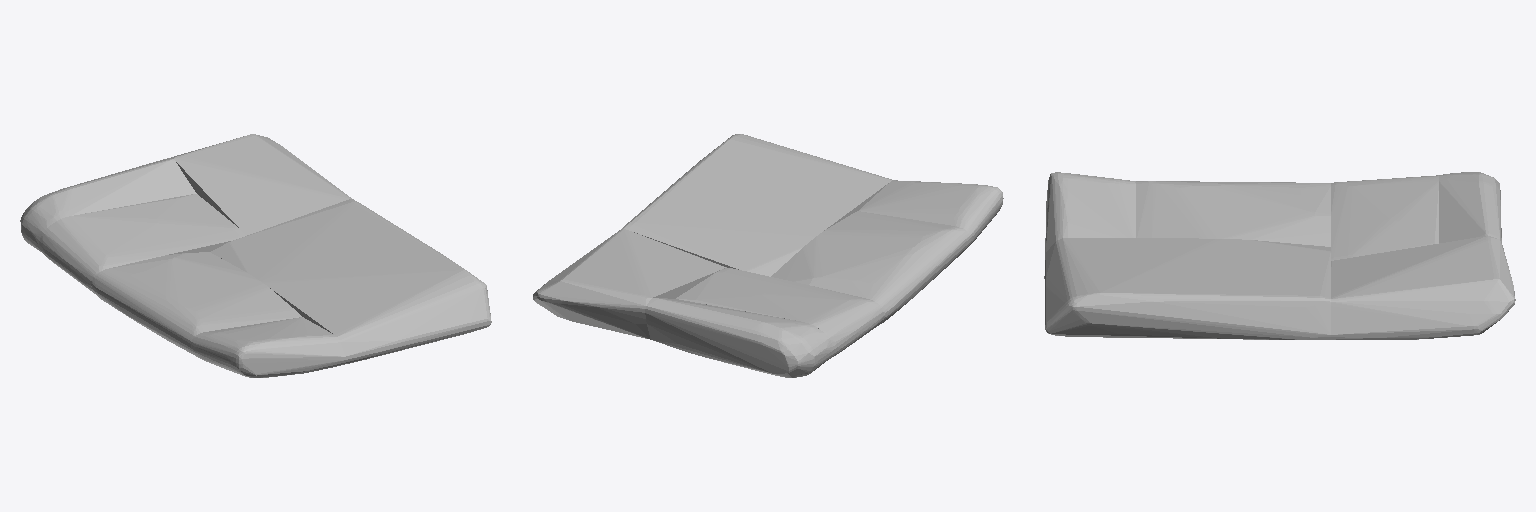
The robot description file, URDF, robot "root":
<robot name="root">
  <link name="link_coacd_convex_piece_0">
    <inertial>
      <origin xyz="0 0 0" rpy="0 0 0"/>
      <inertia ixx="8.14E-03" ixy="-4.73E-03" ixz="7.27E-05" iyy="3.73E-03" iyz="2.85E-05" izz="1.18E-02"/>
    </inertial>
    <visual>
      <origin xyz="0 0 0" rpy="0 0 0"/>
      <geometry>
        <mesh filename="coacd_convex_piece_0.obj" scale="1.0000E+00 1.0000E+00 1.0000E+00"/>
      </geometry>
      <material name="">
        <color rgba="7.50E-01 7.50E-01 7.50E-01 1"/>
      </material>
    </visual>
    <collision>
      <origin xyz="0 0 0" rpy="0 0 0"/>
      <geometry>
        <mesh filename="coacd_convex_piece_0.obj" scale="1.0000E+00 1.0000E+00 1.0000E+00"/>
      </geometry>
    </collision>
  </link>
  <link name="link_coacd_convex_piece_1">
    <inertial>
      <origin xyz="0 0 0" rpy="0 0 0"/>
      <inertia ixx="1.03E-02" ixy="4.82E-03" ixz="2.39E-04" iyy="6.04E-03" iyz="-4.37E-04" izz="1.62E-02"/>
    </inertial>
    <visual>
      <origin xyz="0 0 0" rpy="0 0 0"/>
      <geometry>
        <mesh filename="coacd_convex_piece_1.obj" scale="1.0000E+00 1.0000E+00 1.0000E+00"/>
      </geometry>
      <material name="">
        <color rgba="7.50E-01 7.50E-01 7.50E-01 1"/>
      </material>
    </visual>
    <collision>
      <origin xyz="0 0 0" rpy="0 0 0"/>
      <geometry>
        <mesh filename="coacd_convex_piece_1.obj" scale="1.0000E+00 1.0000E+00 1.0000E+00"/>
      </geometry>
    </collision>
  </link>
  <joint name="link_coacd_convex_piece_1_joint" type="fixed">
    <origin xyz="0 0 0" rpy="0 0 0"/>
    <parent link="link_coacd_convex_piece_0"/>
    <child link="link_coacd_convex_piece_1"/>
  </joint>
  <link name="link_coacd_convex_piece_2">
    <inertial>
      <origin xyz="0 0 0" rpy="0 0 0"/>
      <inertia ixx="5.02E-03" ixy="-2.36E-03" ixz="-7.54E-05" iyy="1.33E-03" iyz="-1.94E-04" izz="6.32E-03"/>
    </inertial>
    <visual>
      <origin xyz="0 0 0" rpy="0 0 0"/>
      <geometry>
        <mesh filename="coacd_convex_piece_2.obj" scale="1.0000E+00 1.0000E+00 1.0000E+00"/>
      </geometry>
      <material name="">
        <color rgba="7.50E-01 7.50E-01 7.50E-01 1"/>
      </material>
    </visual>
    <collision>
      <origin xyz="0 0 0" rpy="0 0 0"/>
      <geometry>
        <mesh filename="coacd_convex_piece_2.obj" scale="1.0000E+00 1.0000E+00 1.0000E+00"/>
      </geometry>
    </collision>
  </link>
  <joint name="link_coacd_convex_piece_2_joint" type="fixed">
    <origin xyz="0 0 0" rpy="0 0 0"/>
    <parent link="link_coacd_convex_piece_1"/>
    <child link="link_coacd_convex_piece_2"/>
  </joint>
  <link name="link_coacd_convex_piece_3">
    <inertial>
      <origin xyz="0 0 0" rpy="0 0 0"/>
      <inertia ixx="3.18E-03" ixy="2.02E-03" ixz="-1.66E-04" iyy="2.15E-03" iyz="2.23E-04" izz="5.26E-03"/>
    </inertial>
    <visual>
      <origin xyz="0 0 0" rpy="0 0 0"/>
      <geometry>
        <mesh filename="coacd_convex_piece_3.obj" scale="1.0000E+00 1.0000E+00 1.0000E+00"/>
      </geometry>
      <material name="">
        <color rgba="7.50E-01 7.50E-01 7.50E-01 1"/>
      </material>
    </visual>
    <collision>
      <origin xyz="0 0 0" rpy="0 0 0"/>
      <geometry>
        <mesh filename="coacd_convex_piece_3.obj" scale="1.0000E+00 1.0000E+00 1.0000E+00"/>
      </geometry>
    </collision>
  </link>
  <joint name="link_coacd_convex_piece_3_joint" type="fixed">
    <origin xyz="0 0 0" rpy="0 0 0"/>
    <parent link="link_coacd_convex_piece_2"/>
    <child link="link_coacd_convex_piece_3"/>
  </joint>
  <link name="link_coacd_convex_piece_4">
    <inertial>
      <origin xyz="0 0 0" rpy="0 0 0"/>
      <inertia ixx="1.67E-03" ixy="-1.37E-03" ixz="-3.20E-04" iyy="3.31E-03" iyz="-1.74E-04" izz="4.89E-03"/>
    </inertial>
    <visual>
      <origin xyz="0 0 0" rpy="0 0 0"/>
      <geometry>
        <mesh filename="coacd_convex_piece_4.obj" scale="1.0000E+00 1.0000E+00 1.0000E+00"/>
      </geometry>
      <material name="">
        <color rgba="7.50E-01 7.50E-01 7.50E-01 1"/>
      </material>
    </visual>
    <collision>
      <origin xyz="0 0 0" rpy="0 0 0"/>
      <geometry>
        <mesh filename="coacd_convex_piece_4.obj" scale="1.0000E+00 1.0000E+00 1.0000E+00"/>
      </geometry>
    </collision>
  </link>
  <joint name="link_coacd_convex_piece_4_joint" type="fixed">
    <origin xyz="0 0 0" rpy="0 0 0"/>
    <parent link="link_coacd_convex_piece_3"/>
    <child link="link_coacd_convex_piece_4"/>
  </joint>
  <link name="link_coacd_convex_piece_5">
    <inertial>
      <origin xyz="0 0 0" rpy="0 0 0"/>
      <inertia ixx="6.56E-03" ixy="2.41E-03" ixz="-3.88E-05" iyy="1.41E-03" iyz="6.03E-05" izz="7.93E-03"/>
    </inertial>
    <visual>
      <origin xyz="0 0 0" rpy="0 0 0"/>
      <geometry>
        <mesh filename="coacd_convex_piece_5.obj" scale="1.0000E+00 1.0000E+00 1.0000E+00"/>
      </geometry>
      <material name="">
        <color rgba="7.50E-01 7.50E-01 7.50E-01 1"/>
      </material>
    </visual>
    <collision>
      <origin xyz="0 0 0" rpy="0 0 0"/>
      <geometry>
        <mesh filename="coacd_convex_piece_5.obj" scale="1.0000E+00 1.0000E+00 1.0000E+00"/>
      </geometry>
    </collision>
  </link>
  <joint name="link_coacd_convex_piece_5_joint" type="fixed">
    <origin xyz="0 0 0" rpy="0 0 0"/>
    <parent link="link_coacd_convex_piece_4"/>
    <child link="link_coacd_convex_piece_5"/>
  </joint>
</robot>

--- What the picture shows (computed from the rendered views, not written in the file) ---
Views: 3 orthographic renders of the robot side by side, from view 1: azimuth 30°, elevation 25°; view 2: azimuth 150°, elevation 25°; view 3: azimuth 270°, elevation 25°.
Model root with 6 links and 5 joints (5 fixed), rooted at link_coacd_convex_piece_0, posed all joints at 0.
Links seen in each view (by area): view 1: link_coacd_convex_piece_1, link_coacd_convex_piece_4, link_coacd_convex_piece_3, link_coacd_convex_piece_0, link_coacd_convex_piece_2, link_coacd_convex_piece_5; view 2: link_coacd_convex_piece_1, link_coacd_convex_piece_4, link_coacd_convex_piece_0, link_coacd_convex_piece_5, link_coacd_convex_piece_3, link_coacd_convex_piece_2; view 3: link_coacd_convex_piece_1, link_coacd_convex_piece_0, link_coacd_convex_piece_4, link_coacd_convex_piece_3, link_coacd_convex_piece_2, link_coacd_convex_piece_5.
Link boxes in pixels (x1,y1,x2,y2): link_coacd_convex_piece_1: (211,199,491,364); link_coacd_convex_piece_4: (91,252,301,356); link_coacd_convex_piece_3: (39,194,245,293); link_coacd_convex_piece_0: (170,134,351,235); link_coacd_convex_piece_2: (191,317,345,377); link_coacd_convex_piece_5: (20,158,196,249); link_coacd_convex_piece_1: (622,134,891,276); link_coacd_convex_piece_4: (771,211,969,323); link_coacd_convex_piece_0: (533,229,726,339); link_coacd_convex_piece_5: (645,298,833,377); link_coacd_convex_piece_3: (676,268,883,358); link_coacd_convex_piece_2: (859,180,1003,245); link_coacd_convex_piece_1: (1044,238,1330,339); link_coacd_convex_piece_0: (1331,236,1515,339); link_coacd_convex_piece_4: (1136,181,1330,246); link_coacd_convex_piece_3: (1331,175,1438,260); link_coacd_convex_piece_2: (1045,172,1135,253); link_coacd_convex_piece_5: (1439,172,1501,242).
Bounding box of the posed robot: 1.18 × 1.64 × 0.1999 m (x, y, z).
Meshes: 6 distinct files referenced, 6 mesh visuals loaded (6 OBJ).
